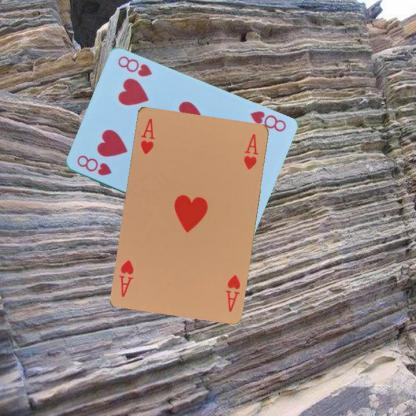8h: (247, 108, 287, 134), (74, 152, 113, 178)
Ah: (223, 272, 242, 313), (138, 115, 156, 155)
